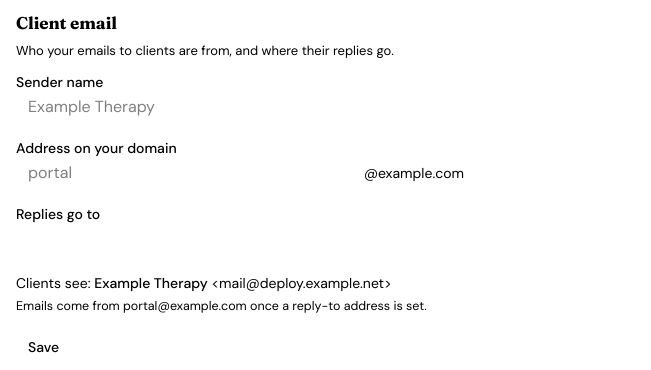
Test case: ClientEmailSenderCard › switches to the practice's domain in the preview as soon as a reply-to is typed
In the field labelled "Sender name": [240, 107] box [16,89,464,125], type "Jordan Rivera, LCSW"
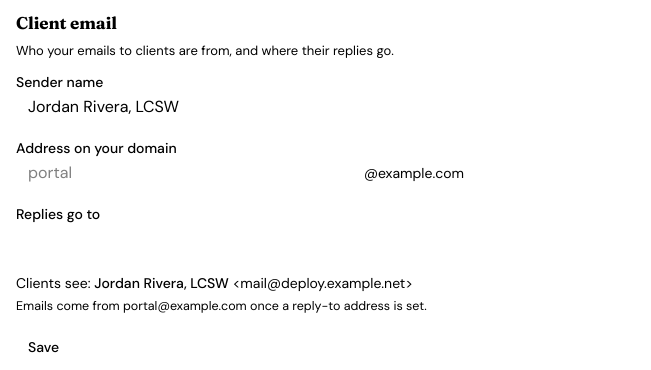
In the field labelled "Address on your domain": [186, 173] box [16,155,356,191], type "Hello"
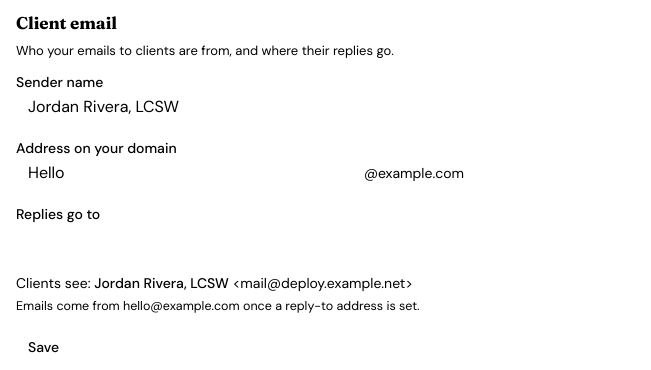
In the field labelled "Replies go to": [240, 239] box [16,221,464,257], type "frontdesk@example.com"
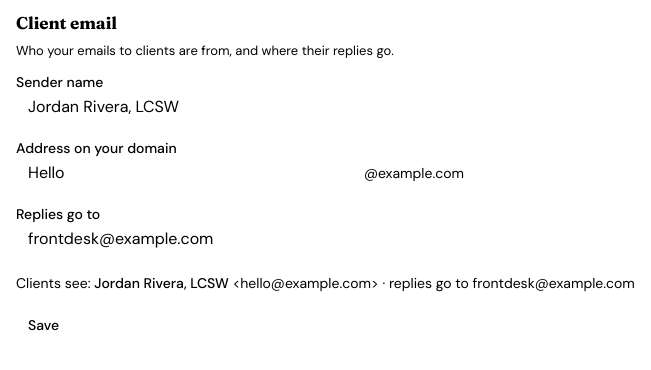
Check: the text with test id "client-email-pending-note" is gone
